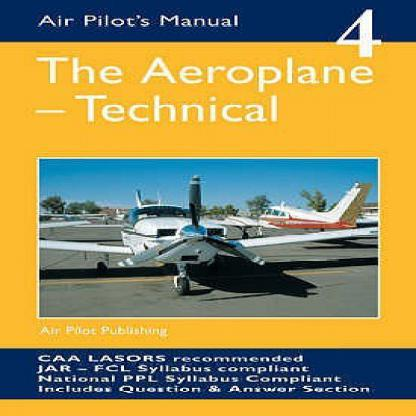CIV_Plane: (49, 176, 266, 289), (244, 182, 374, 232)
